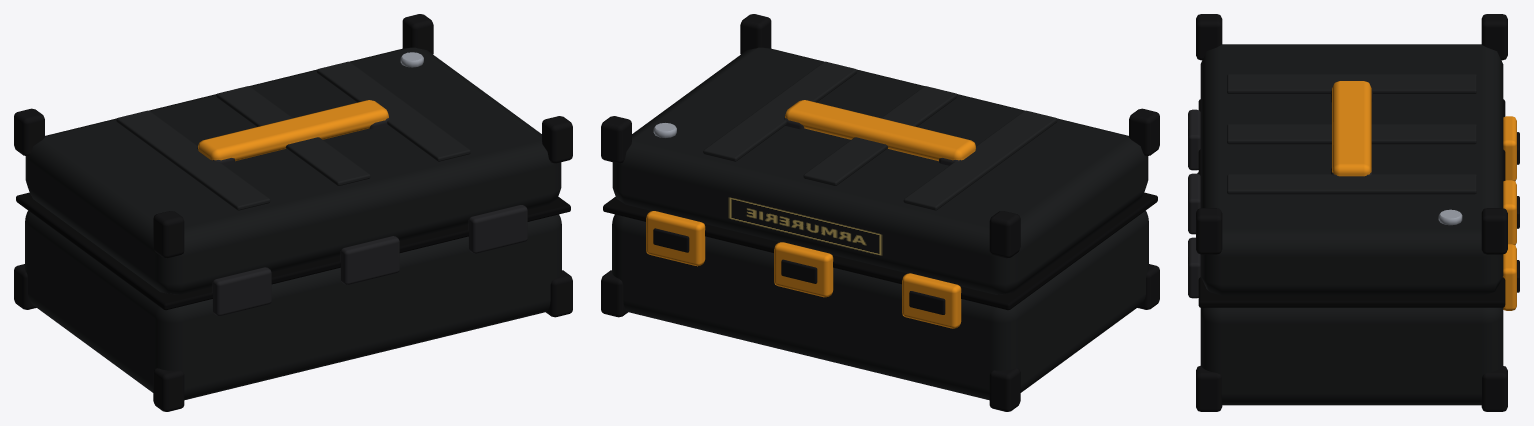
Rendered from ArmoryCase.obj.
The picture shows the model from 3 angles, left to right: view 1: azimuth 30°, elevation 25°; view 2: azimuth 150°, elevation 25°; view 3: azimuth 270°, elevation 25°; orthographic projection. The views are drawn at different scales.
Size of the model in its own units: 0.369 by 0.165 by 0.2522.
